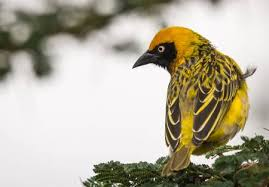target: (124, 24, 251, 184)
